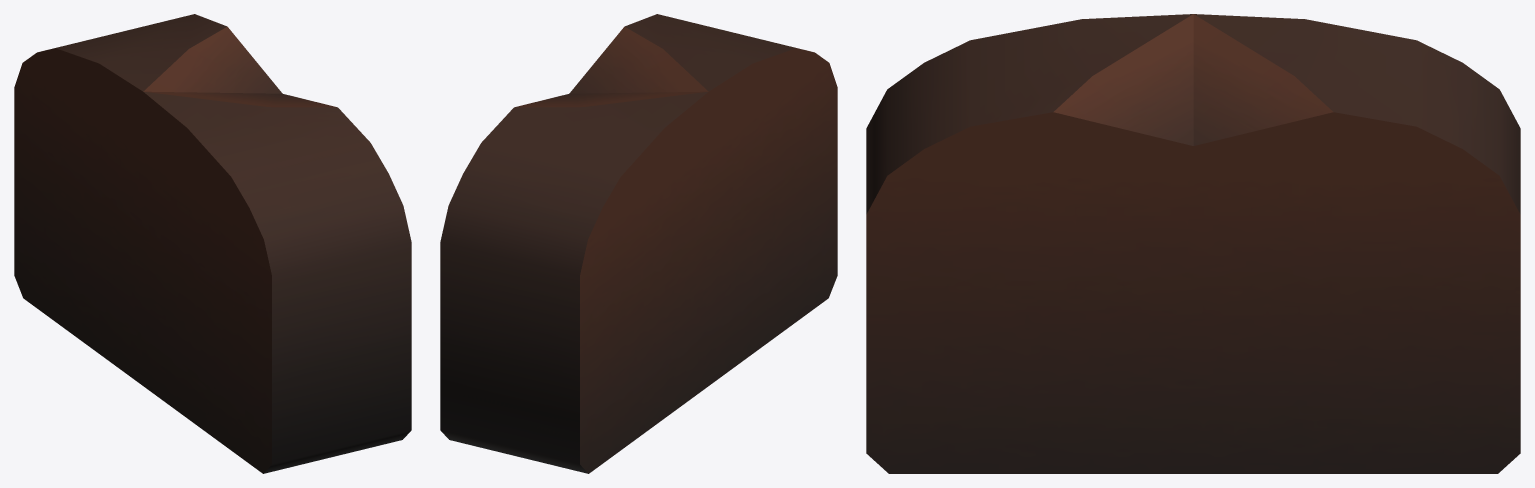
Rendered from m_LoafCake02_Slice02.fbx.
3 views of the same model, side by side, from view 1: azimuth 30°, elevation 25°; view 2: azimuth 150°, elevation 25°; view 3: azimuth 270°, elevation 25° (orthographic). The views are drawn at different scales.
Parts seen in each view (by area): view 1: m_LoafCake02_Slice02; view 2: m_LoafCake02_Slice02; view 3: m_LoafCake02_Slice02.
Boxes of the visible parts, <box> form: m_LoafCake02_Slice02: <box>14,14,411,473</box>; m_LoafCake02_Slice02: <box>440,14,837,473</box>; m_LoafCake02_Slice02: <box>866,14,1520,473</box>.
Bounding box in the file's own units: 5 × 10.08 × 16.
